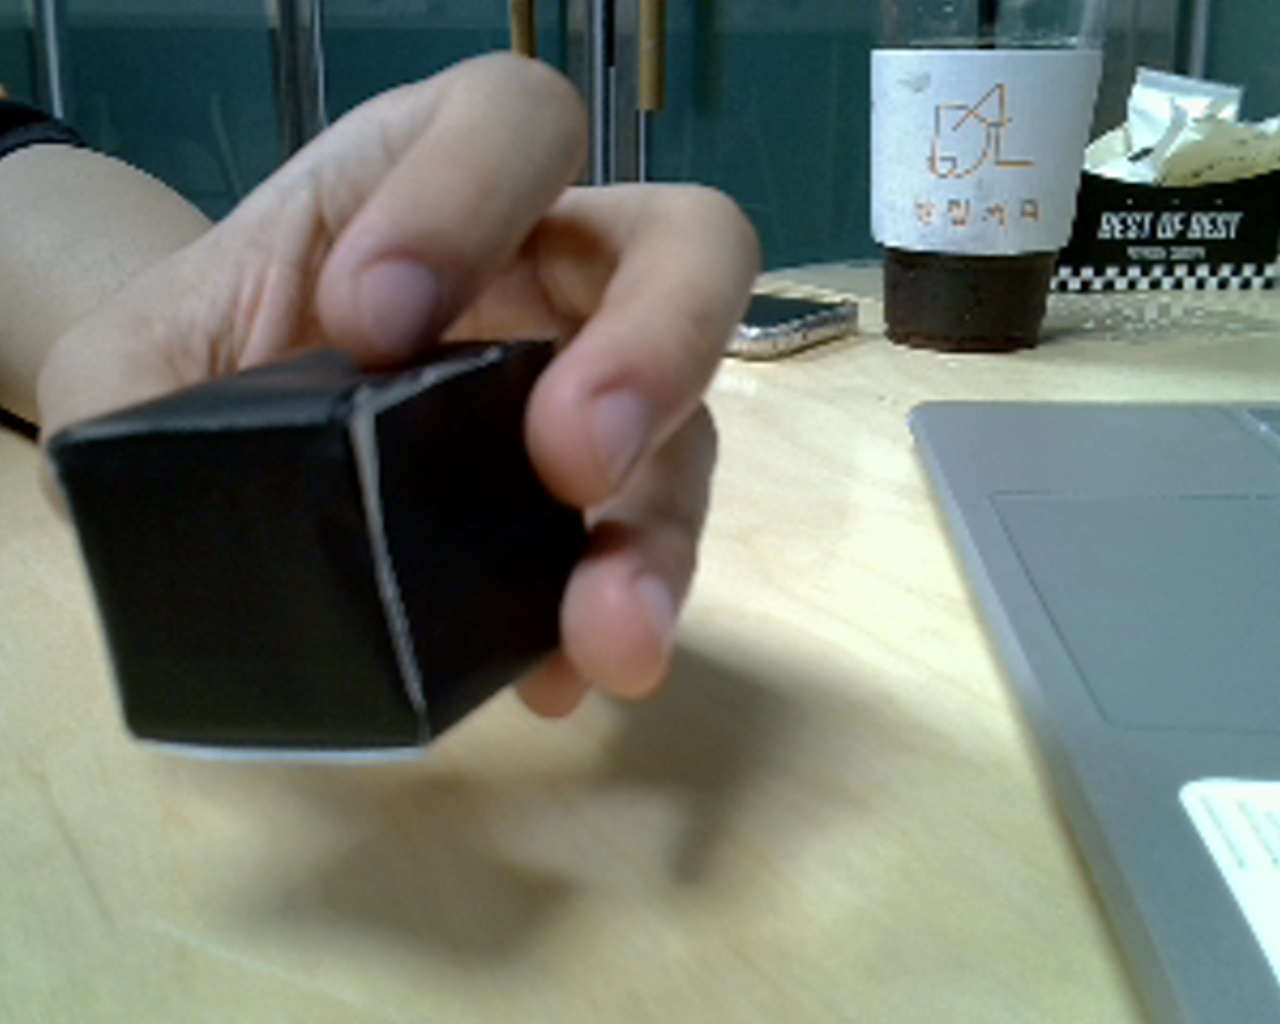blackbox: (37, 278, 658, 794)
